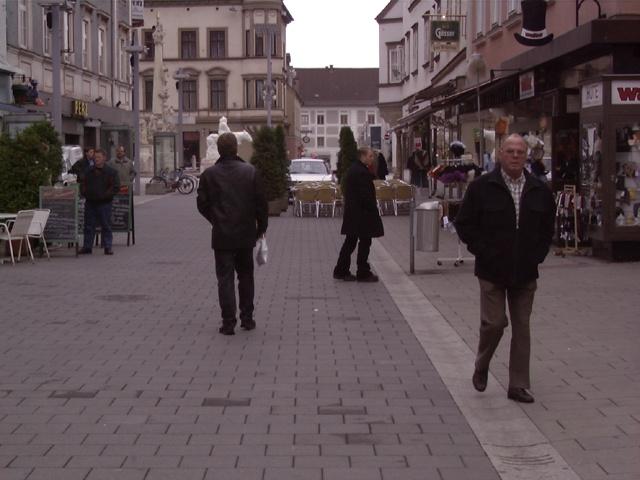person: (458, 132, 549, 408), (196, 128, 267, 336), (330, 146, 382, 288), (79, 145, 117, 255)
